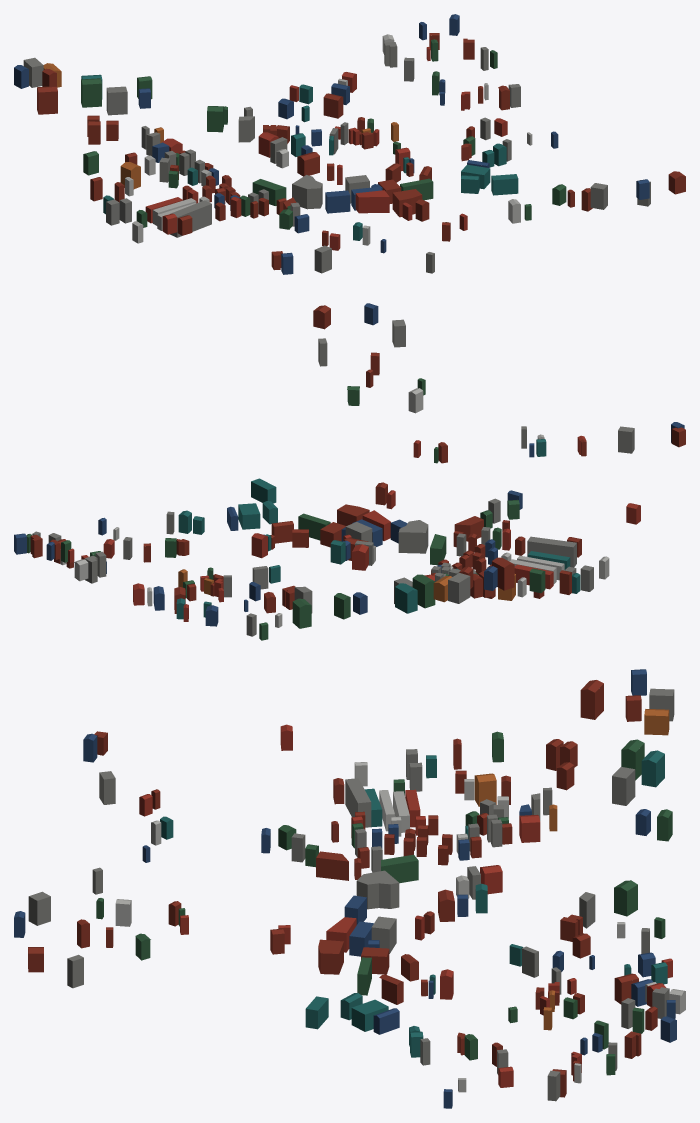
File: near-16-54718-29745.112bbc73.glb
The picture shows the model from 3 angles, top to bottom: view 1: azimuth 30°, elevation 25°; view 2: azimuth 150°, elevation 25°; view 3: azimuth 270°, elevation 25°; orthographic projection. The views are drawn at different scales.
Size of the model in its own units: 586 by 160 by 593.
